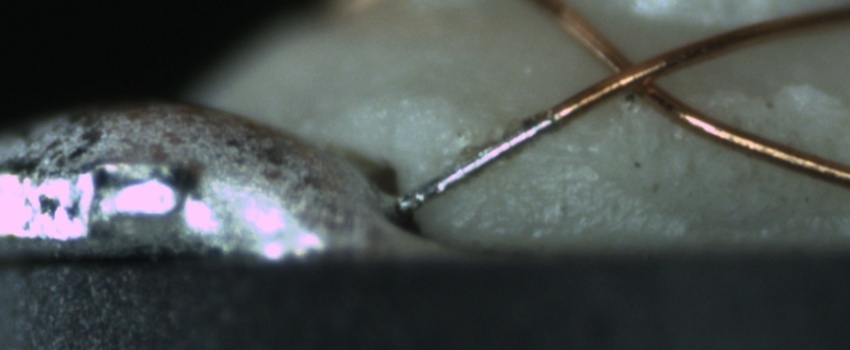CL: (589, 40, 684, 108)
DL: (460, 137, 604, 179)
TS: (397, 114, 557, 212)
